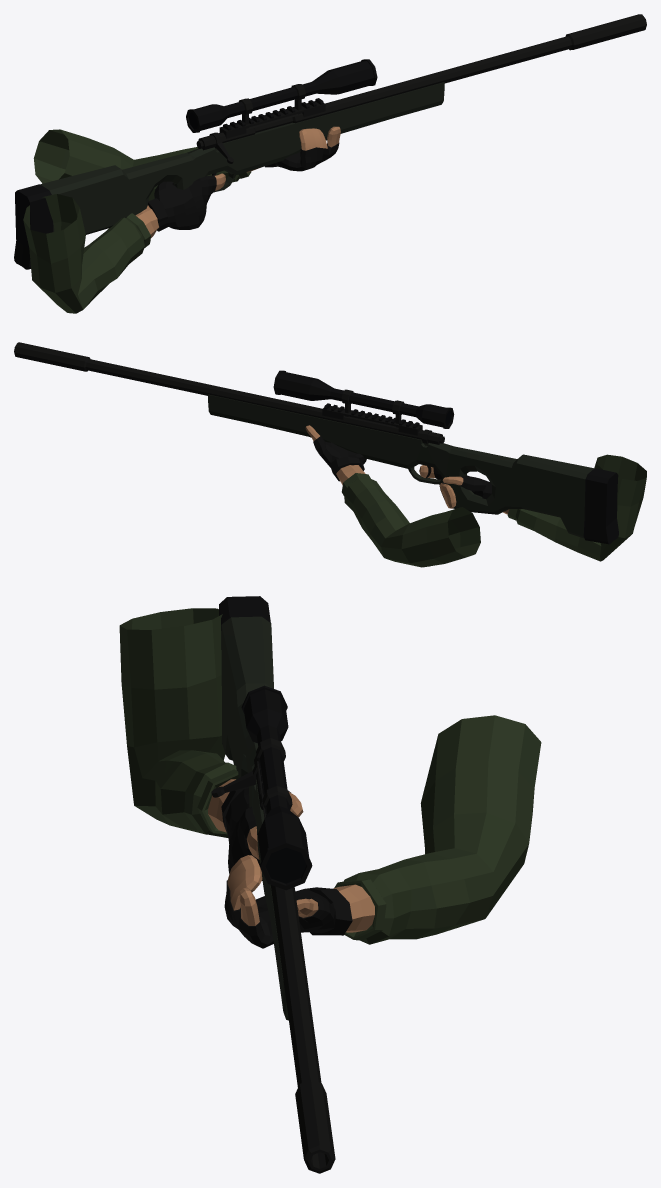
File: armasniper.obj
The picture shows the model from 3 angles, top to bottom: view 1: azimuth 30°, elevation 25°; view 2: azimuth 150°, elevation 25°; view 3: azimuth 270°, elevation 25°; orthographic projection. The views are drawn at different scales.
Parts seen in each view (by area): view 1: SniperRifle_3, ArmModel; view 2: SniperRifle_3, ArmModel; view 3: ArmModel, SniperRifle_3.
Part boxes in pixels (x1,y1,x2,y2): SniperRifle_3: [14, 14, 646, 269]; ArmModel: [23, 126, 340, 313]; SniperRifle_3: [14, 342, 618, 544]; ArmModel: [305, 425, 646, 567]; ArmModel: [119, 608, 541, 948]; SniperRifle_3: [211, 596, 335, 1173].
Size of the model in its own units: 29.28 by 6.44 by 9.06.
